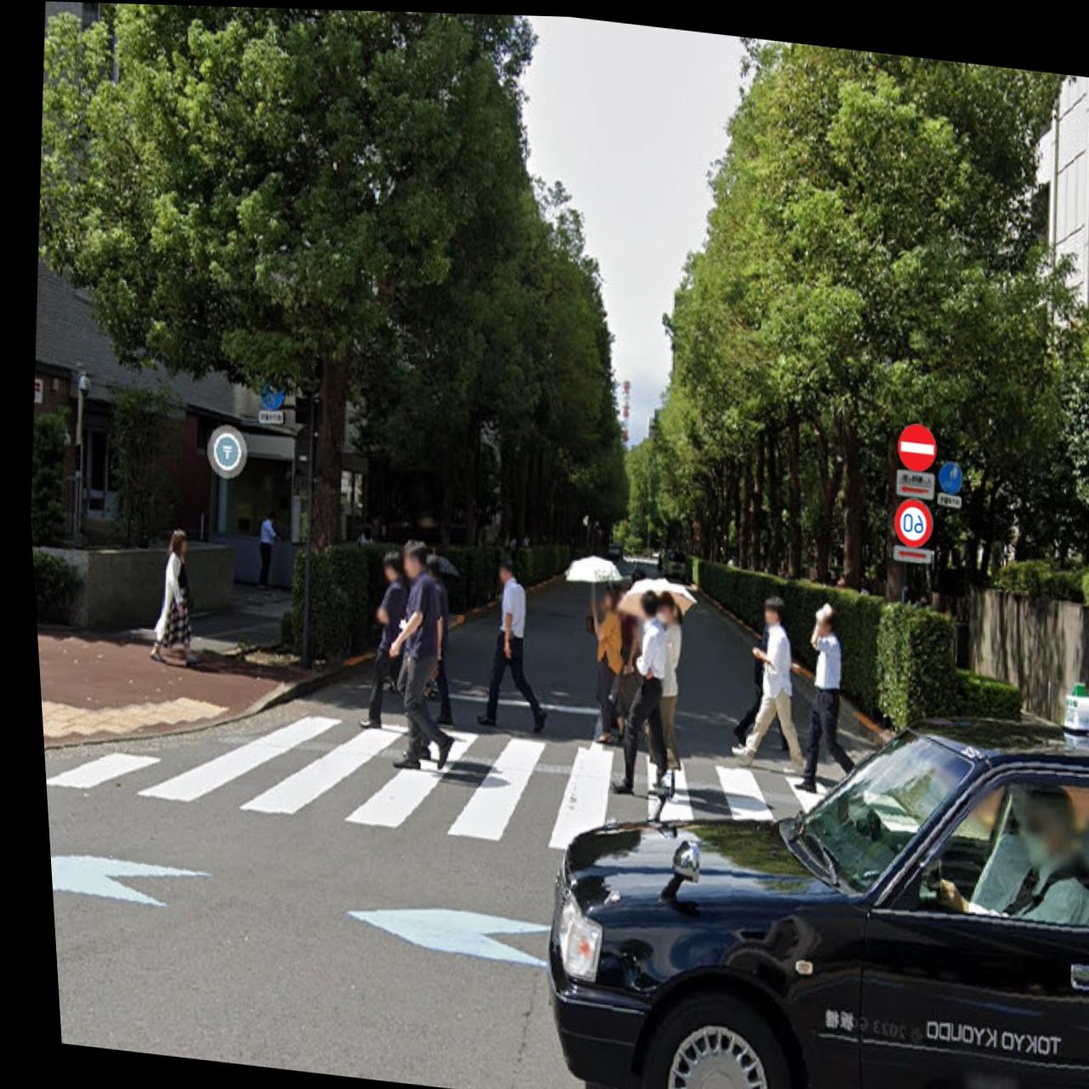barrier: (892, 420, 942, 474)
